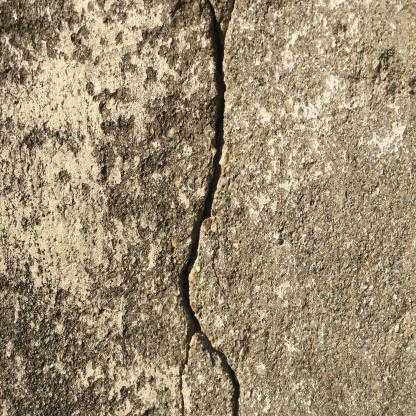crack: (177, 0, 241, 416)
